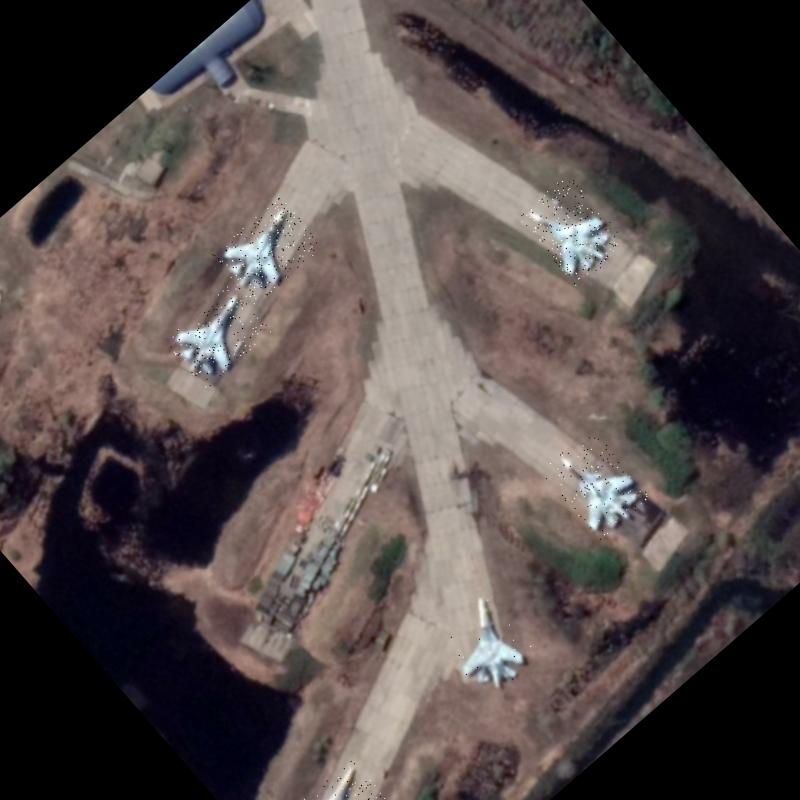A1: (428, 588, 542, 704), (517, 172, 630, 288), (211, 195, 324, 306), (163, 282, 274, 390), (279, 757, 397, 800)
A19: (540, 426, 652, 542)
